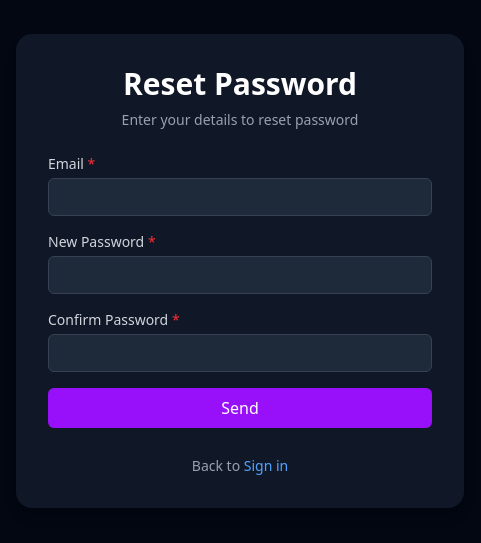
Test: ForgotPassword Component Tests › displays "Passwords do not match" error if new password and confirm password do not match
The width and height of the screenshot is (481, 543).
Type "test@example.com" into the field labelled "Email *".
click(240, 197); type("test@example.com")  # box [48,178,432,216]
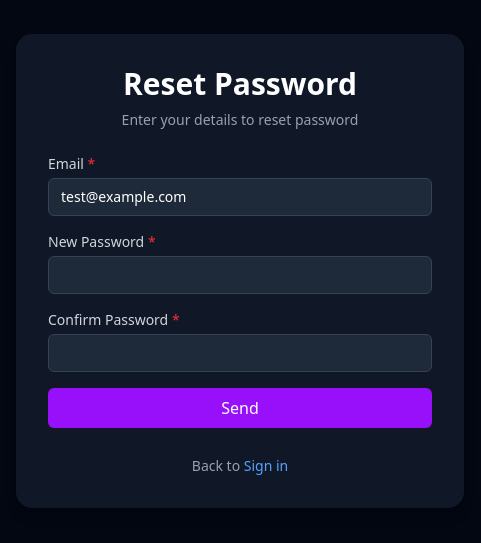
Type "newPass123" into the password field labelled "New Password *".
click(240, 275); type("newPass123")  # box [48,256,432,294]
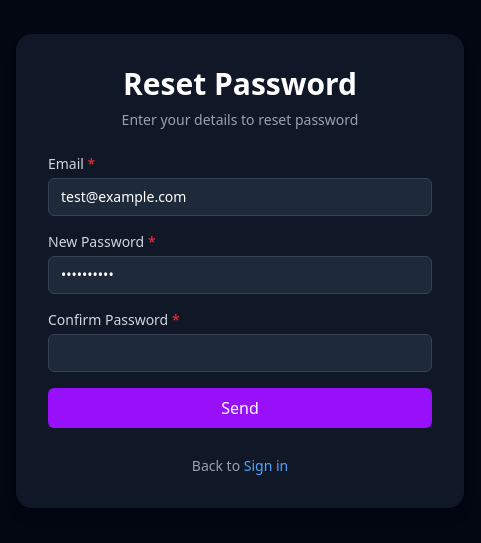
Type "differentPass" into the password field labelled "Confirm Password *".
click(240, 353); type("differentPass")  # box [48,334,432,372]
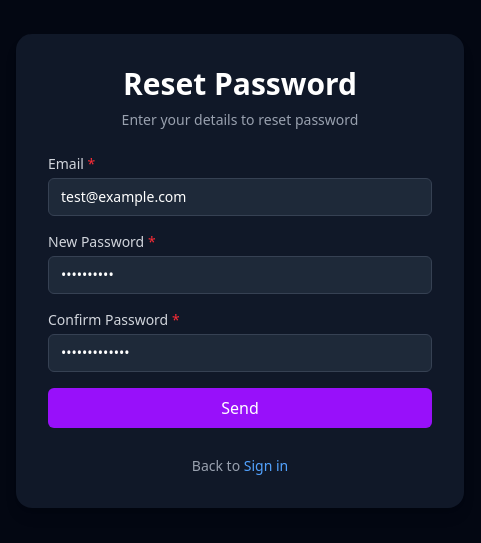
Click the button "Send".
click(240, 408)  # box [48,388,432,428]
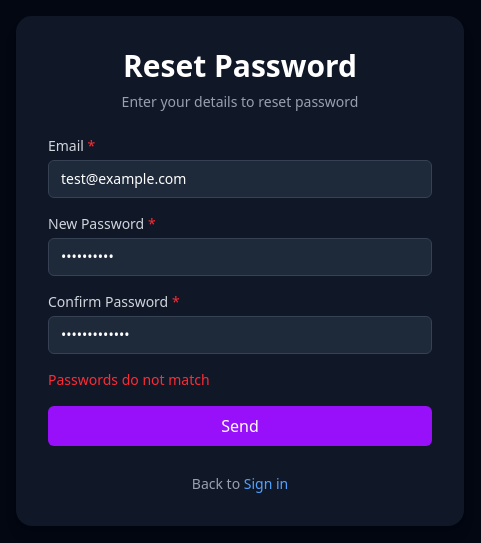
Expected: the text "Passwords do not match" is shown, [48,370,210,389]
